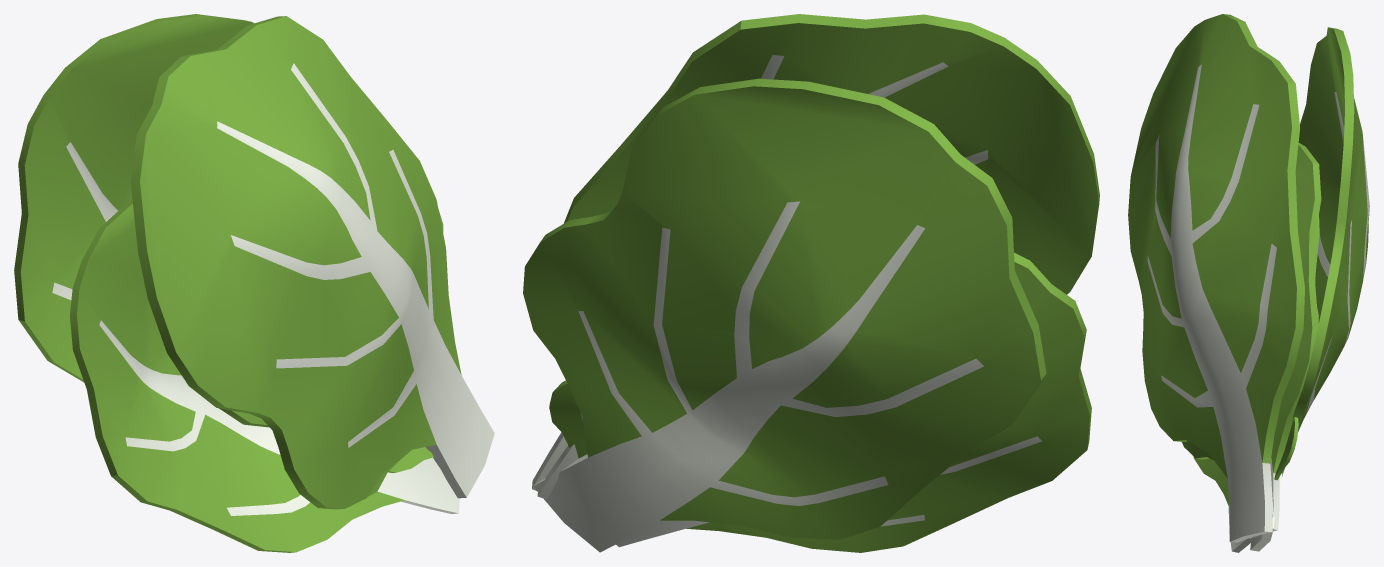
The model's file is leafy_green.glb.
The picture shows the model from 3 angles, left to right: view 1: azimuth 30°, elevation 25°; view 2: azimuth 150°, elevation 25°; view 3: azimuth 270°, elevation 25°; orthographic projection. The views are drawn at different scales.
Visible parts, largest first — view 1: Plane.204; view 2: Plane.204; view 3: Plane.204.
Boxes of the visible parts, x1,y1,x2,y2 form: Plane.204: (14,14,494,552); Plane.204: (523,14,1099,552); Plane.204: (1128,14,1369,552).
Size of the model in its own units: 2.09 by 2.29 by 1.17.
1 material, 1 textured.
